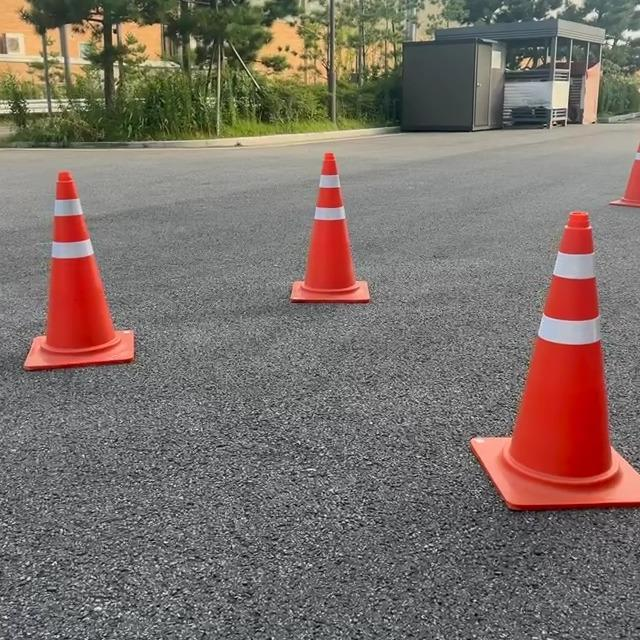fallen_object: (460, 230, 640, 640), (243, 107, 425, 476), (13, 86, 174, 372), (603, 127, 640, 208)
